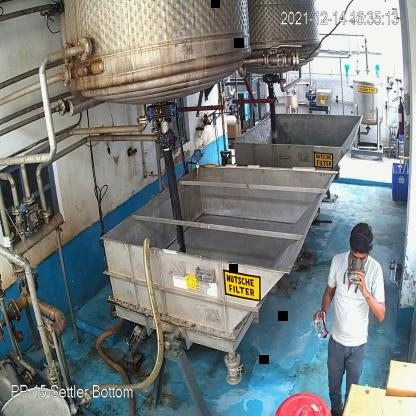mask: (348, 257, 366, 284)
no_goggles: (349, 249, 372, 267)
